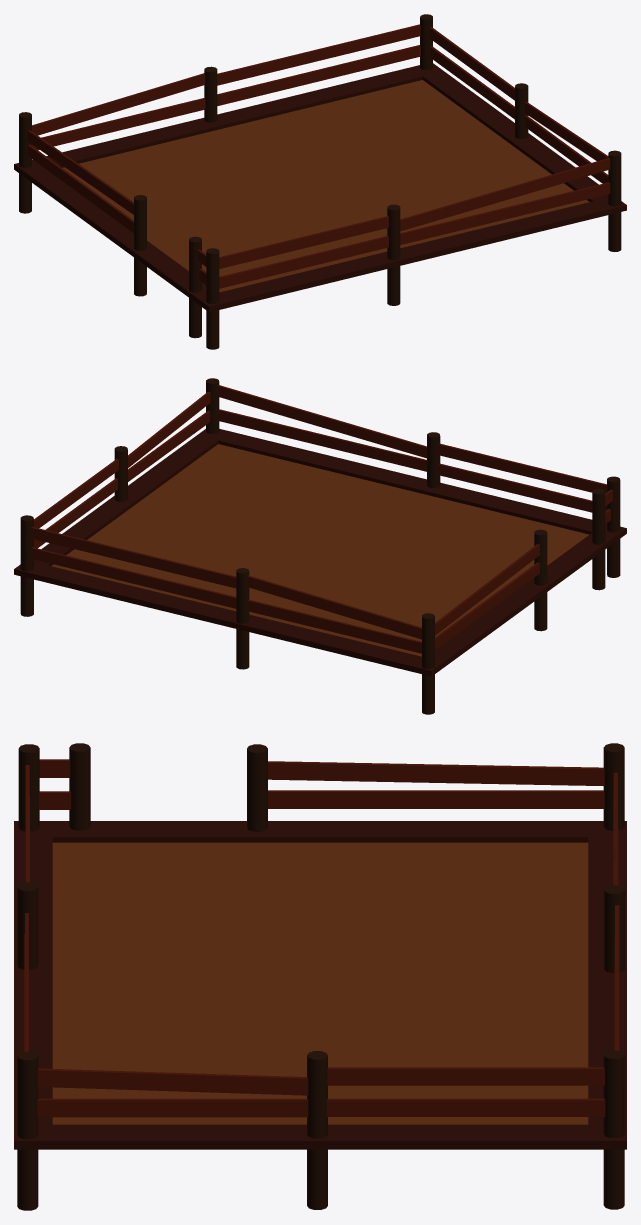
Rendered from MSH_ChampDeMaïsV2.fbx.
3 renders of one model, top to bottom at view 1: azimuth 30°, elevation 25°; view 2: azimuth 150°, elevation 25°; view 3: azimuth 270°, elevation 25°, orthographic. The views are drawn at different scales.
Visible parts, largest first — view 1: Champ; view 2: Champ; view 3: Champ.
Part boxes in pixels (x1,y1,x2,y2): Champ: (14, 14, 626, 349); Champ: (14, 378, 626, 714); Champ: (14, 743, 626, 1210).
Bounding box in the file's own units: 1896 × 416 × 1535.
